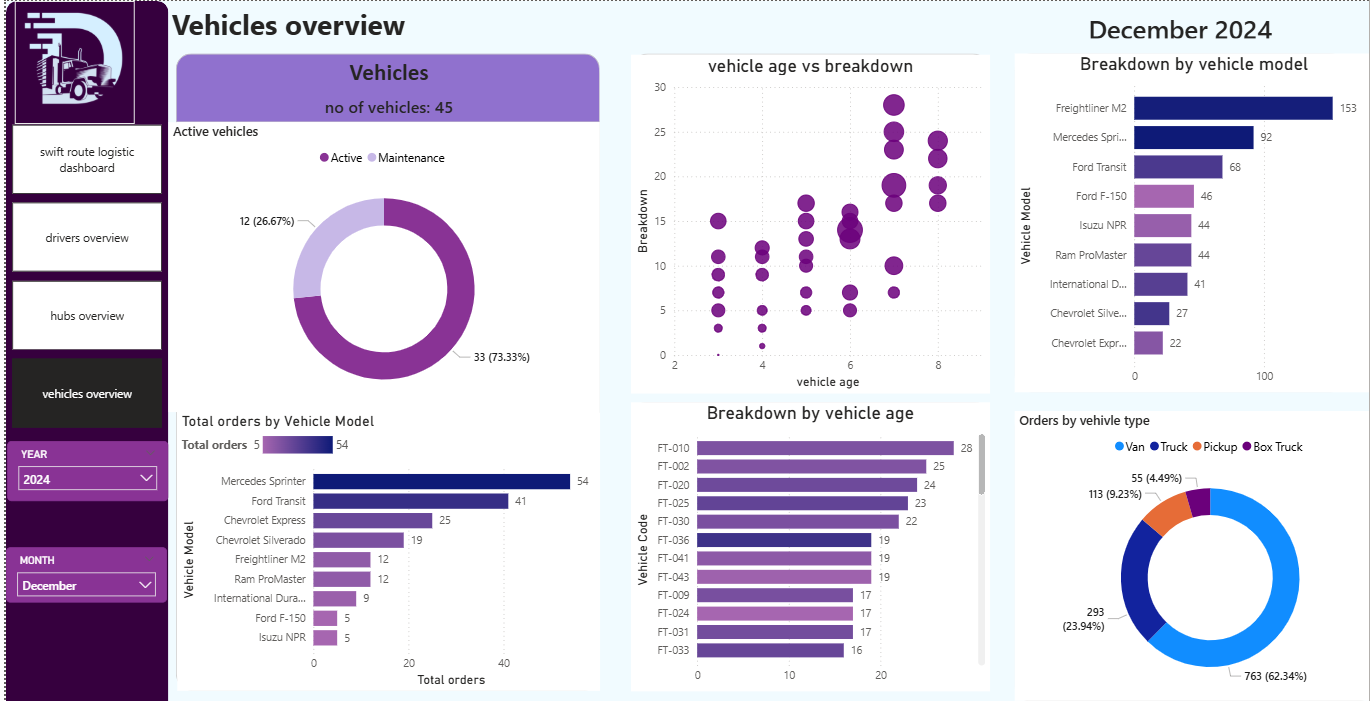

Layout of this report page (visuals, bound fields, positions):
{"tool":"powerbi","page":{"name":"vehicles overview","canvas":[1600,800],"ordinal":3},"visuals":[{"type":"shape","box":[0,0,185.7,892.9],"z":0},{"type":"textbox","box":[184.8,0,667,60.6],"z":1000},{"type":"slicer","fields":{"Values":["Date Table.YEAR"]},"box":[1.4,502.9,184.3,68.6],"z":2000},{"type":"slicer","fields":{"Values":["Date Table.MONTH"]},"box":[0,624.3,184.3,62.9],"z":3000},{"type":"image","box":[10,0,137.1,140],"z":4000},{"type":"cardVisual","fields":{"Data":["Orders.year month title"]},"box":[1170,0,344.3,60],"z":5000},{"type":"shape","box":[714.3,60,410,387.1],"z":6000},{"type":"shape","box":[194.3,65.7,484.3,722.9],"z":7000},{"type":"shape","box":[194.3,60,484.3,78.6],"z":8000},{"type":"textbox","box":[294.3,60,287.1,62.9],"z":9000},{"type":"cardVisual","fields":{"Data":["Vehicles.no of vehicles"]},"box":[265.7,87.1,344.3,65.7],"z":10000},{"type":"donutChart","title":"Active vehicles","fields":{"Category":["Vehicles.Vehicle Status"],"Y":["CountNonNull(Vehicles.Vehicle ID)"]},"box":[185.7,138.6,492.9,331.4],"z":11000},{"type":"barChart","fields":{"Category":["Vehicles.Vehicle Model"],"Y":["Orders.Total orders"]},"box":[195.7,470,482.9,318.6],"z":12000},{"type":"shape","box":[1152.9,60,380,387.1],"z":13000},{"type":"scatterChart","title":"vehicle age vs breakdown","fields":{"X":["Vehicles.vehicle age"],"Y":["Vehicles.Breakdown"],"Size":["Sum(Vehicles.Breakdown)1"]},"box":[714.3,61.4,410,387.1],"z":14000},{"type":"shape","box":[714.3,458.6,410,330],"z":15000},{"type":"barChart","title":"Breakdown by vehicle model","fields":{"Y":["Sum(Vehicles.Breakdown)"],"Category":["Vehicles.Vehicle Model"]},"box":[1152.9,60,410,387.1],"z":16000},{"type":"barChart","title":"Breakdown by vehicle age ","fields":{"Category":["Vehicles.Vehicle Code"],"Y":["Sum(Vehicles.Breakdown)"]},"box":[714.3,458.6,410,330],"z":17000},{"type":"shape","box":[1152.9,470,410,330],"z":18000},{"type":"donutChart","title":"Orders by vehivle type","fields":{"Category":["Orders.Vehicle Type"],"Y":["Orders.Total orders"]},"box":[1152.9,468.6,447.1,331.4],"z":19000},{"type":"pageNavigator","box":[7.1,141.4,171.4,347.1],"z":20000}]}

Visuals, with their boxes on the page's 1600x800 design canvas (x1, y1, x2, y2). These are canvas units, not pixel positions in the 1371x701 screenshot, which may show the page scaled, cropped or inside an application window:
shape: x1=0 y1=0 x2=186 y2=893
textbox: x1=185 y1=0 x2=852 y2=61
slicer - Date Table.YEAR: x1=1 y1=503 x2=186 y2=572
slicer - Date Table.MONTH: x1=0 y1=624 x2=184 y2=687
image: x1=10 y1=0 x2=147 y2=140
cardVisual - Orders.year month title: x1=1170 y1=0 x2=1514 y2=60
shape: x1=714 y1=60 x2=1124 y2=447
shape: x1=194 y1=66 x2=679 y2=789
shape: x1=194 y1=60 x2=679 y2=139
textbox: x1=294 y1=60 x2=581 y2=123
cardVisual - Vehicles.no of vehicles: x1=266 y1=87 x2=610 y2=153
"Active vehicles" donutChart: x1=186 y1=139 x2=679 y2=470
barChart - Vehicles.Vehicle Model x Orders.Total orders: x1=196 y1=470 x2=679 y2=789
shape: x1=1153 y1=60 x2=1533 y2=447
"vehicle age vs breakdown" scatterChart: x1=714 y1=61 x2=1124 y2=448
shape: x1=714 y1=459 x2=1124 y2=789
"Breakdown by vehicle model" barChart: x1=1153 y1=60 x2=1563 y2=447
"Breakdown by vehicle age " barChart: x1=714 y1=459 x2=1124 y2=789
shape: x1=1153 y1=470 x2=1563 y2=800
"Orders by vehivle type" donutChart: x1=1153 y1=469 x2=1600 y2=800
pageNavigator: x1=7 y1=141 x2=178 y2=488
